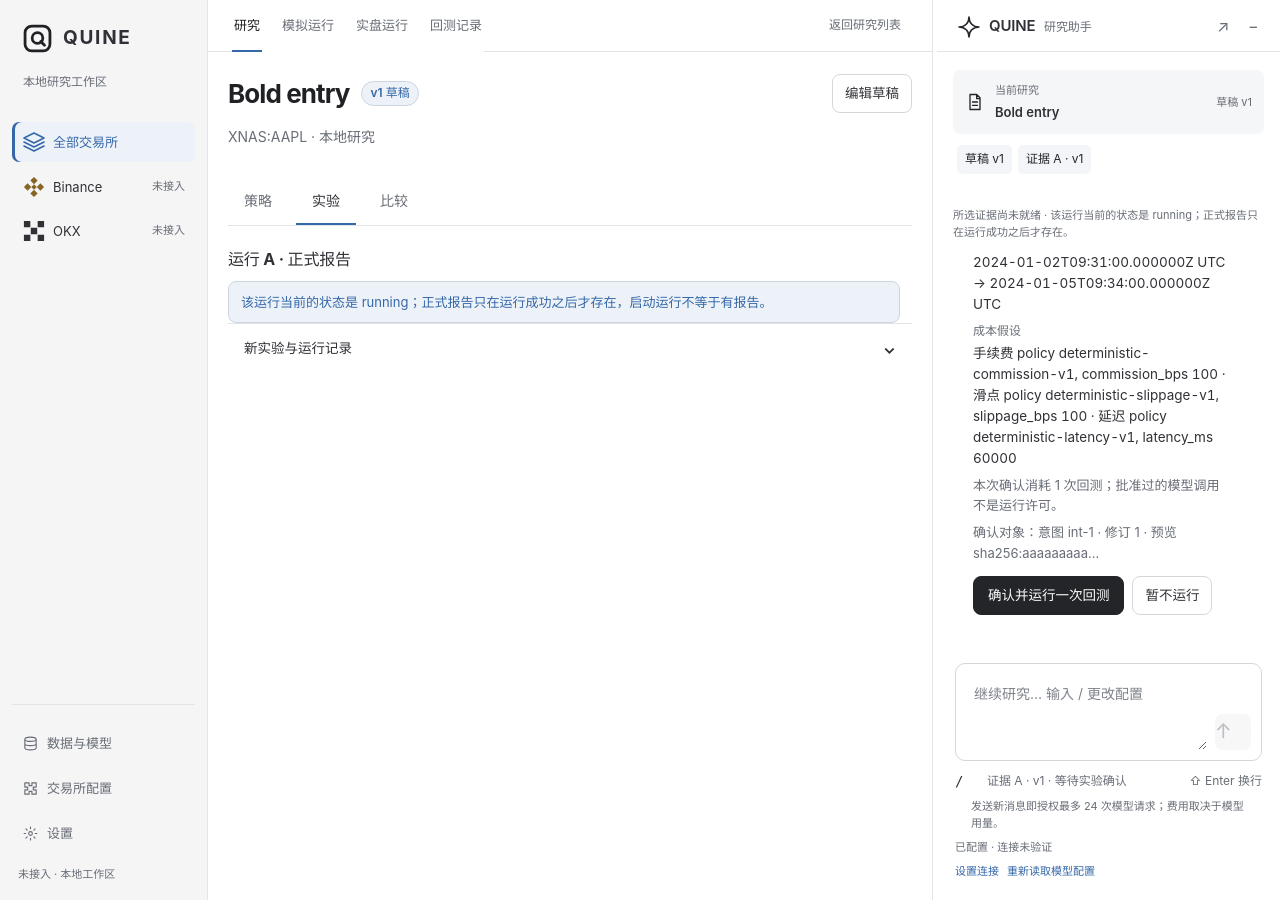
Scenario: completed conversation experiment evidence › rereads only its completed job without reload (failed)
(page scrolled)
Expected: the text "所选证据尚未就绪 · 该运行当前的状态是 running；正式报告只在运行成功之后才存在。" is shown, [953, 207, 1264, 242]
Click the tab "策略" at (258, 202), box [228, 179, 288, 225]
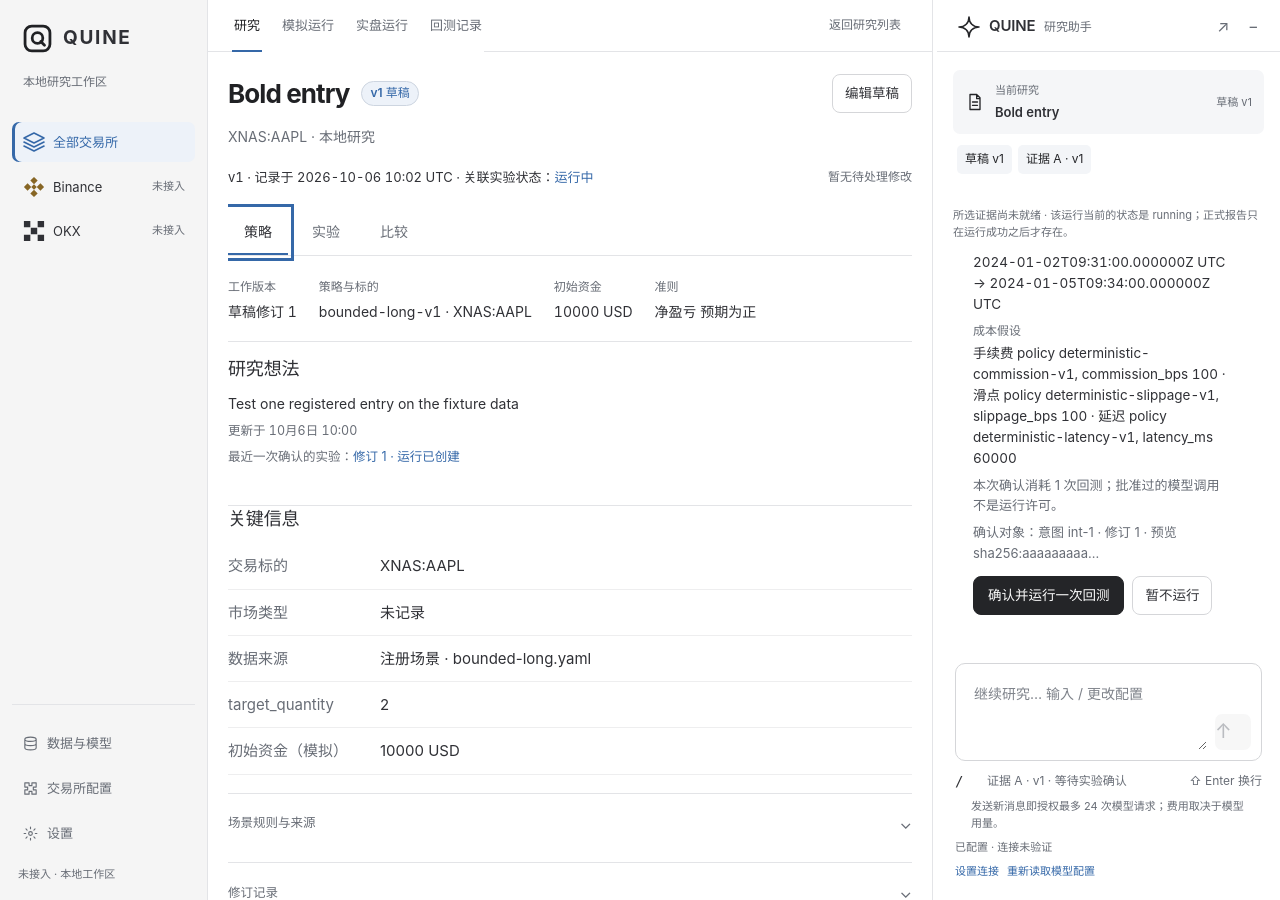
Expected: the link "运行中" is shown, [554, 169, 593, 185]
Click the button "确认并运行一次回测" at (1049, 595), box [973, 576, 1124, 615]
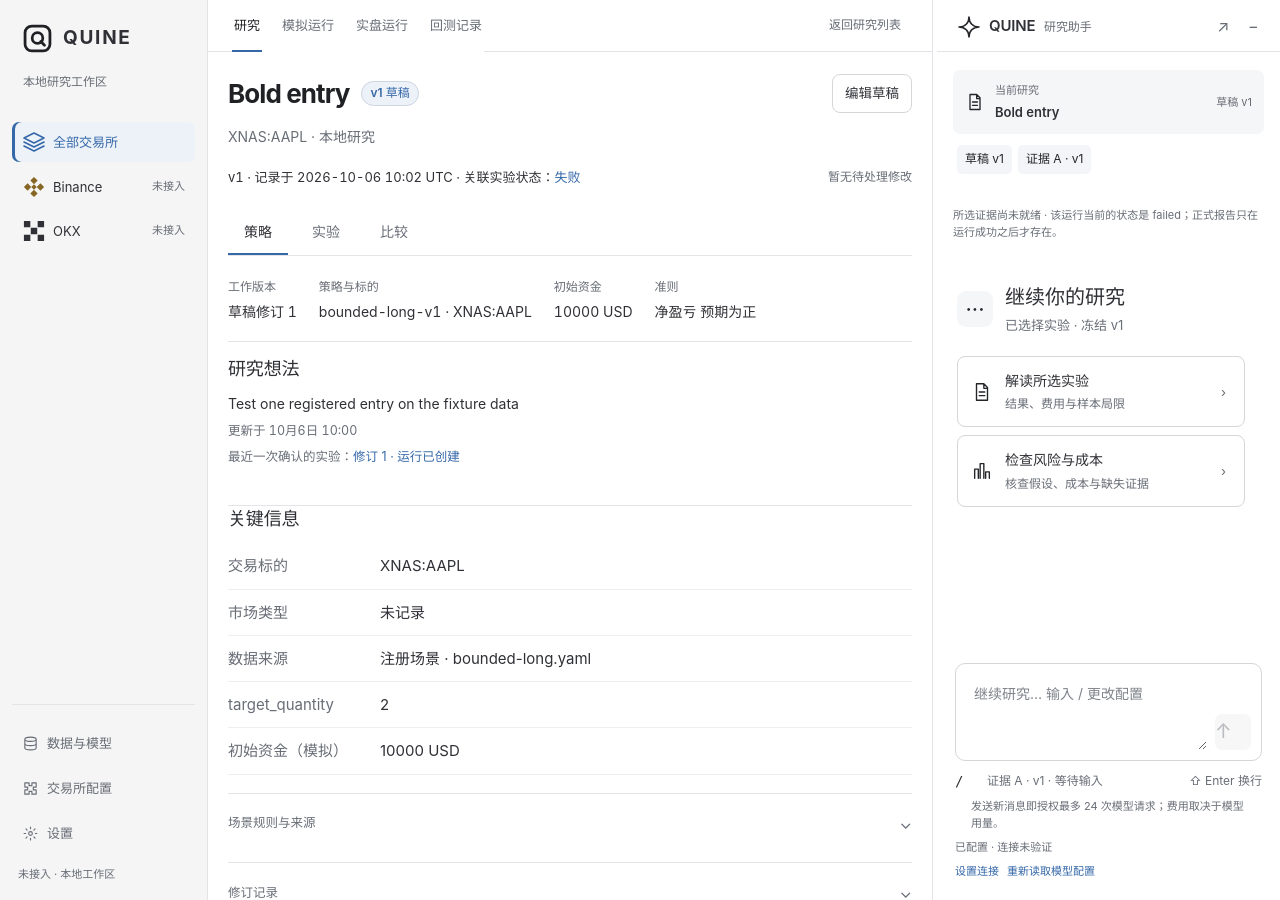
Expected: the text "所选证据尚未就绪 · 该运行当前的状态是 failed；正式报告只在运行成功之后才存在。" is shown, [953, 207, 1264, 242]
Expected: the element named "下一步" shows "v1", [228, 169, 244, 185]
Expected: the link "失败" is shown, [554, 169, 580, 185]
